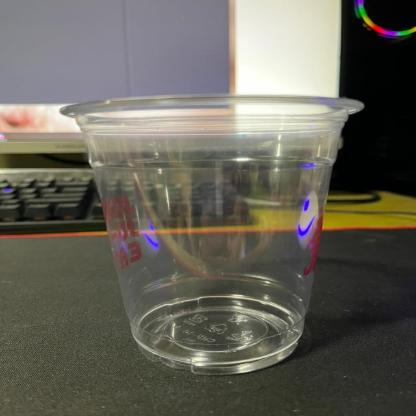Plastic Cup: (57, 90, 365, 376)
